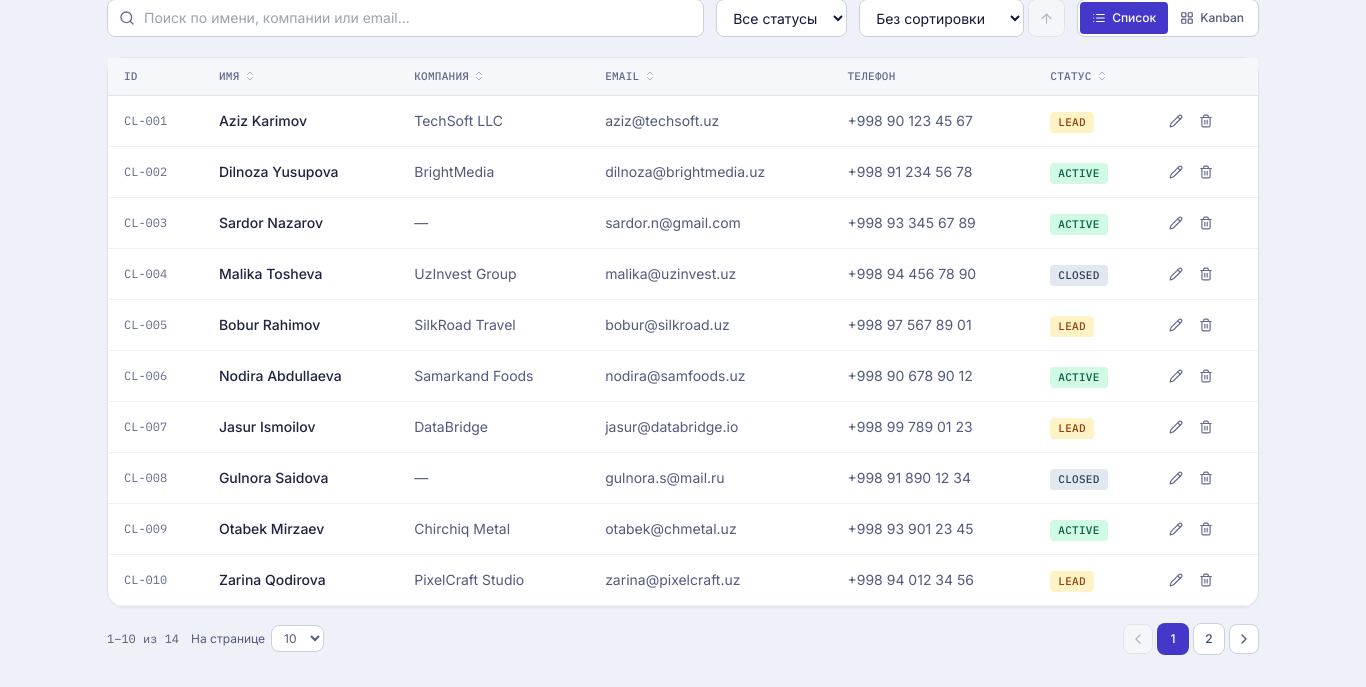
Test: list, stats and pagination › filters by status when a stat card is clicked, and hides pagination
This screenshot has width=1366, height=687.
(page scrolled)
Click the button named "Следующая страница": (1244, 638) left=1229, top=624, right=1259, bottom=654
(page scrolled)
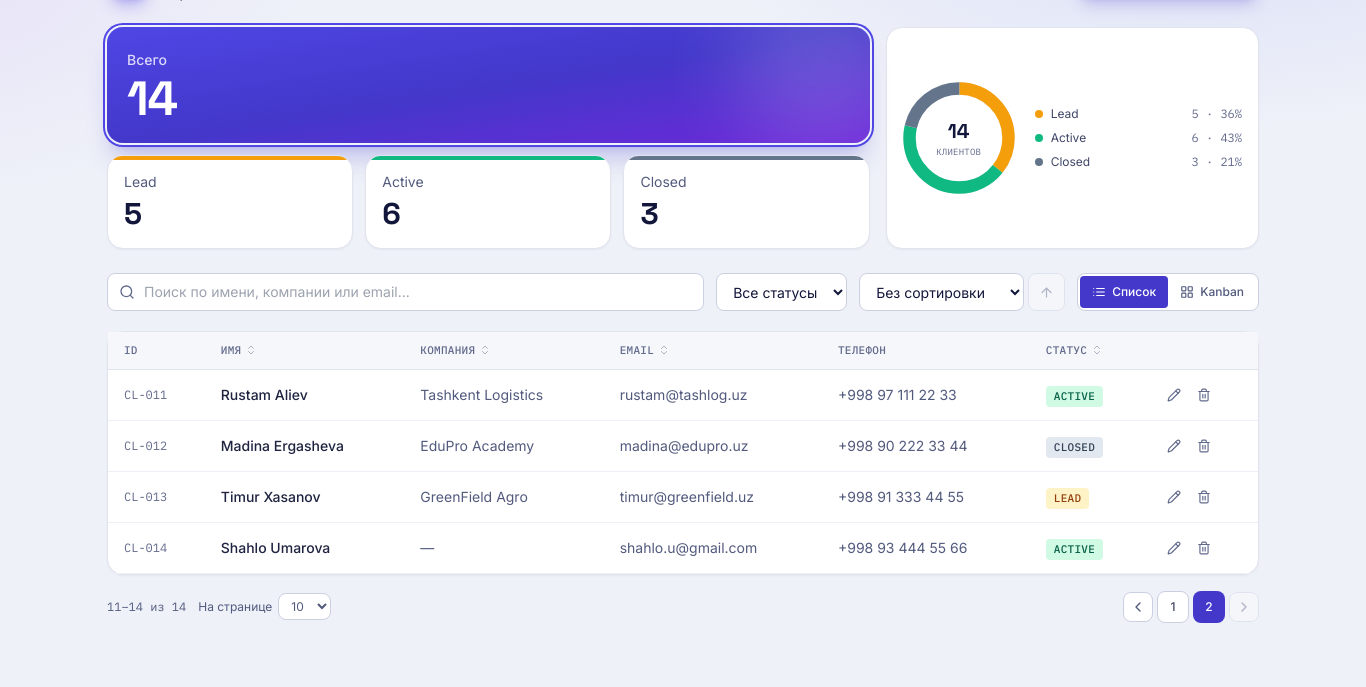
Click the button "Lead 5": (230, 202) left=107, top=155, right=353, bottom=249
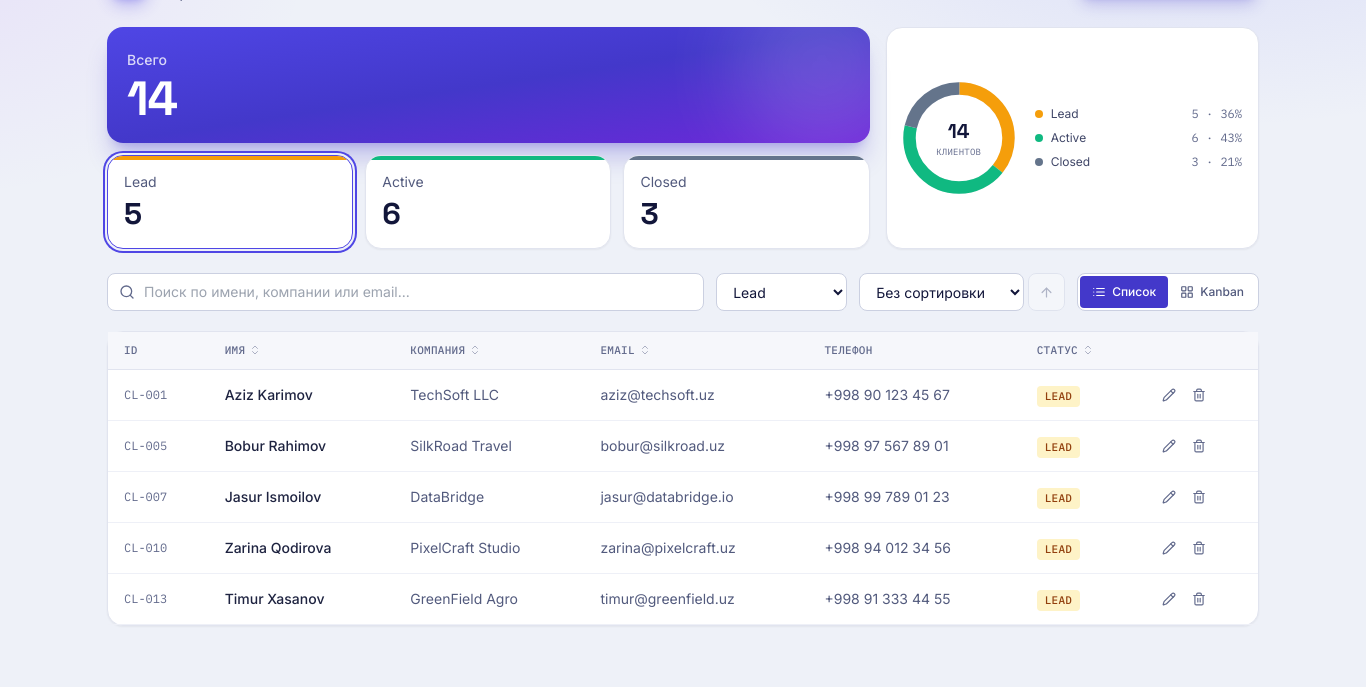
Check: the dropdown named "Фильтр по статусу" shows "Lead", box left=716, top=273, right=847, bottom=311
Check: the navigation bar "Пагинация" is gone
